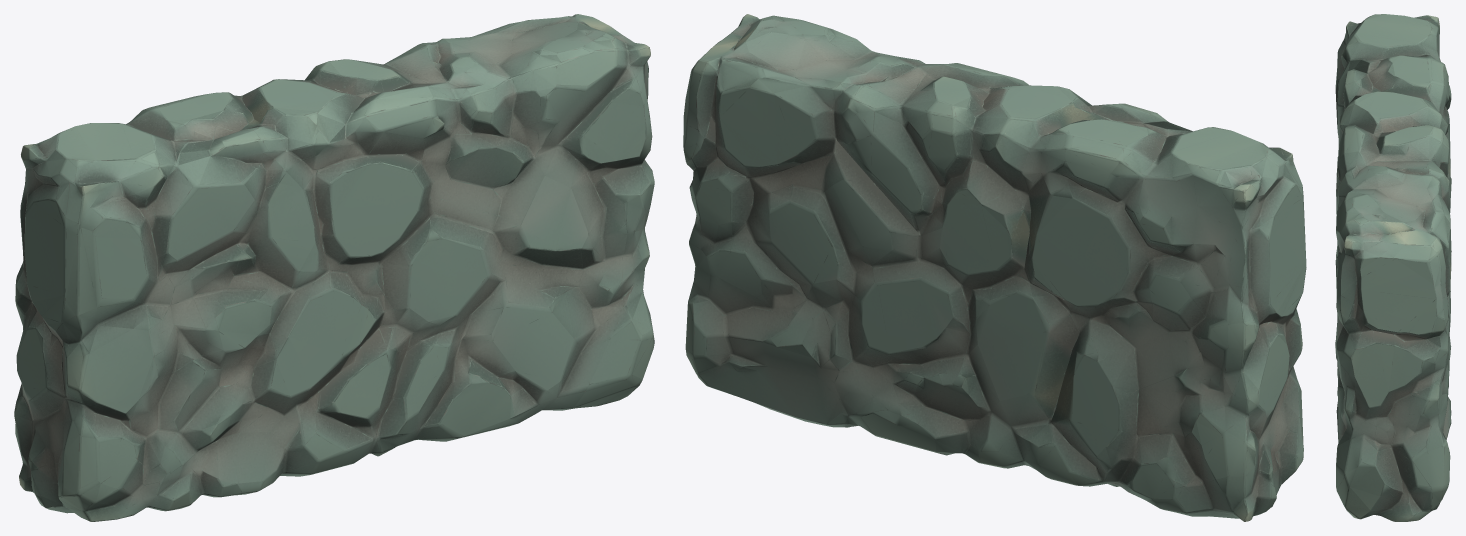
The model's file is Wall.fbx.
The picture shows the model from 3 angles, left to right: view 1: azimuth 30°, elevation 25°; view 2: azimuth 150°, elevation 25°; view 3: azimuth 270°, elevation 25°; orthographic projection. The views are drawn at different scales.
Visible parts, largest first — view 1: Wall; view 2: Wall; view 3: Wall.
Boxes of the visible parts, box(x1,y1,x2,y2) form: Wall: box(14, 14, 654, 521); Wall: box(683, 14, 1306, 521); Wall: box(1335, 14, 1451, 521).
Size of the model in its own units: 631 by 373 by 133.
1 material, 1 textured.
